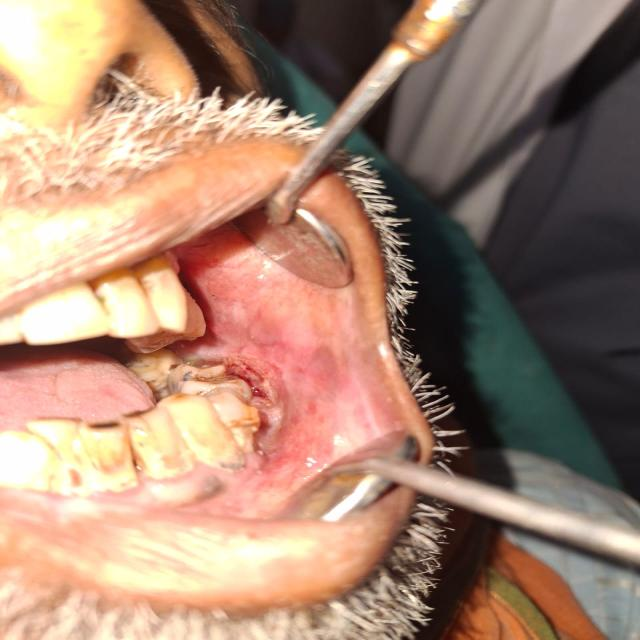cancer-detection: (177, 330, 312, 475)
processing_area: (128, 225, 380, 520)
